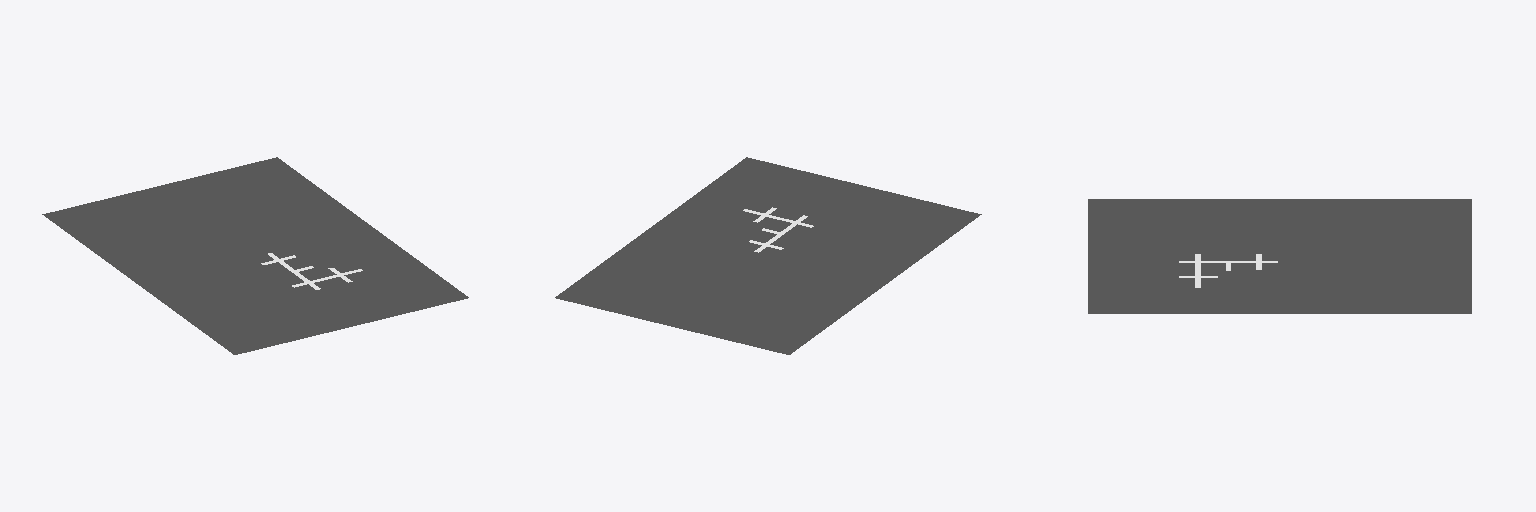
Rendered from streetnew.obj.
3 renders of one model, left to right at view 1: azimuth 30°, elevation 25°; view 2: azimuth 150°, elevation 25°; view 3: azimuth 270°, elevation 25°, orthographic.
Parts seen in each view (by area): view 1: Plane011; view 2: Plane011; view 3: Plane011.
Part boxes in pixels (x1,y1,x2,y2): Plane011: (42, 157, 468, 354); Plane011: (555, 157, 981, 354); Plane011: (1088, 199, 1471, 313).
Size of the model in its own units: 235181 by 507 by 333518.